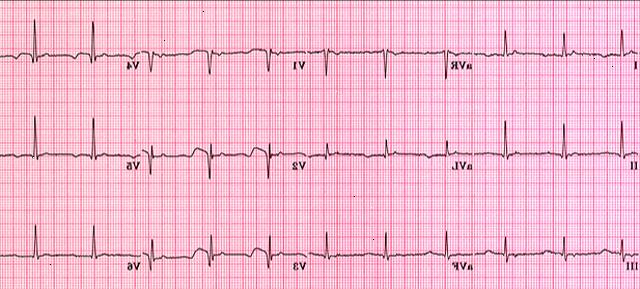Lead_I: (474, 26, 639, 84)
Lead_II: (472, 112, 640, 182)
Lead_III: (474, 226, 638, 278)
Lead_V1: (138, 38, 306, 81)
Lead_V2: (140, 136, 307, 177)
Lead_V3: (140, 226, 308, 278)
Lead_V4: (0, 10, 140, 82)
Lead_V5: (0, 108, 140, 188)
Lead_V6: (0, 216, 144, 279)
Lead_aVF: (306, 222, 474, 276)
Lead_aVL: (308, 125, 474, 178)
Lead_aVR: (306, 24, 474, 84)
